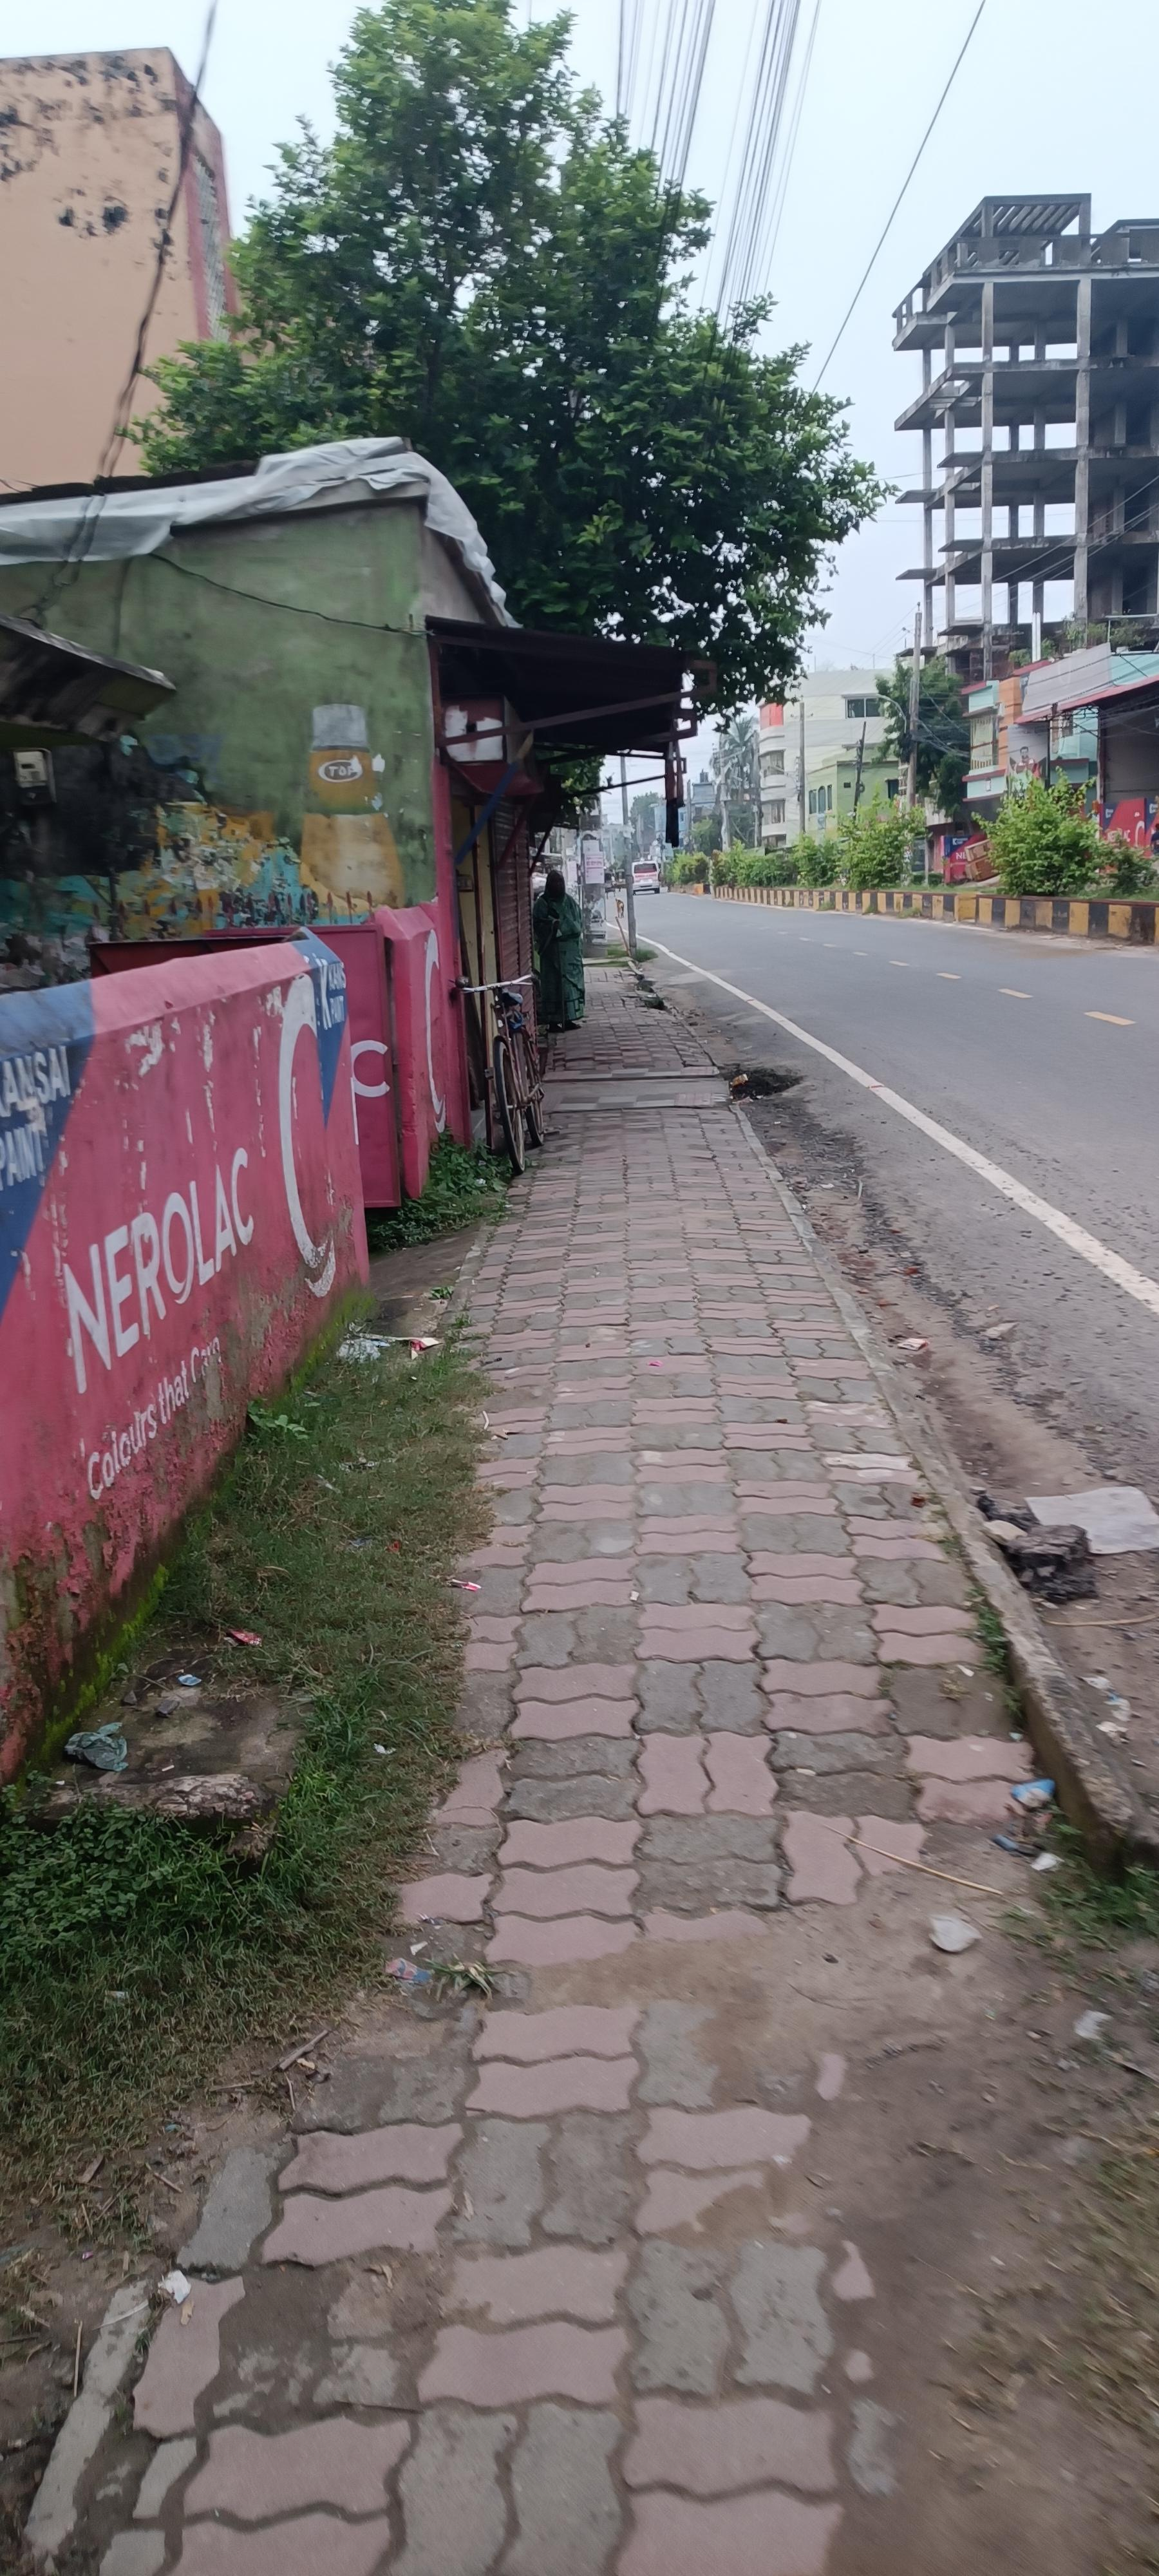Garbage-bin: (530, 869, 586, 1033)
Motorcycle: (726, 1061, 808, 1099)
Pothole: (21, 941, 1156, 2571)
